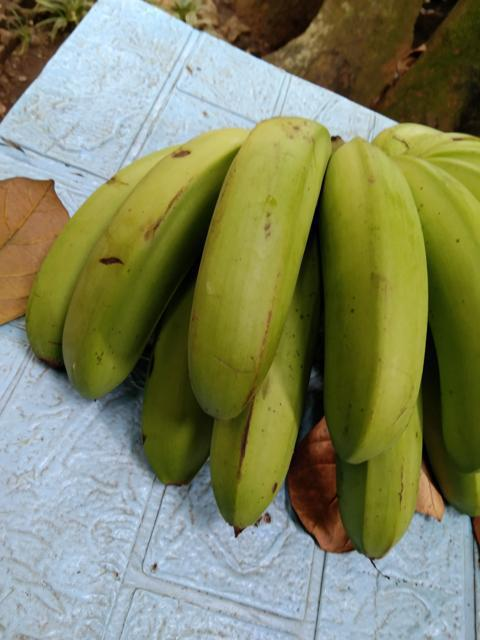freshunripe: (307, 134, 438, 468)
unripe: (170, 93, 331, 424), (59, 108, 224, 410), (200, 323, 329, 544)
